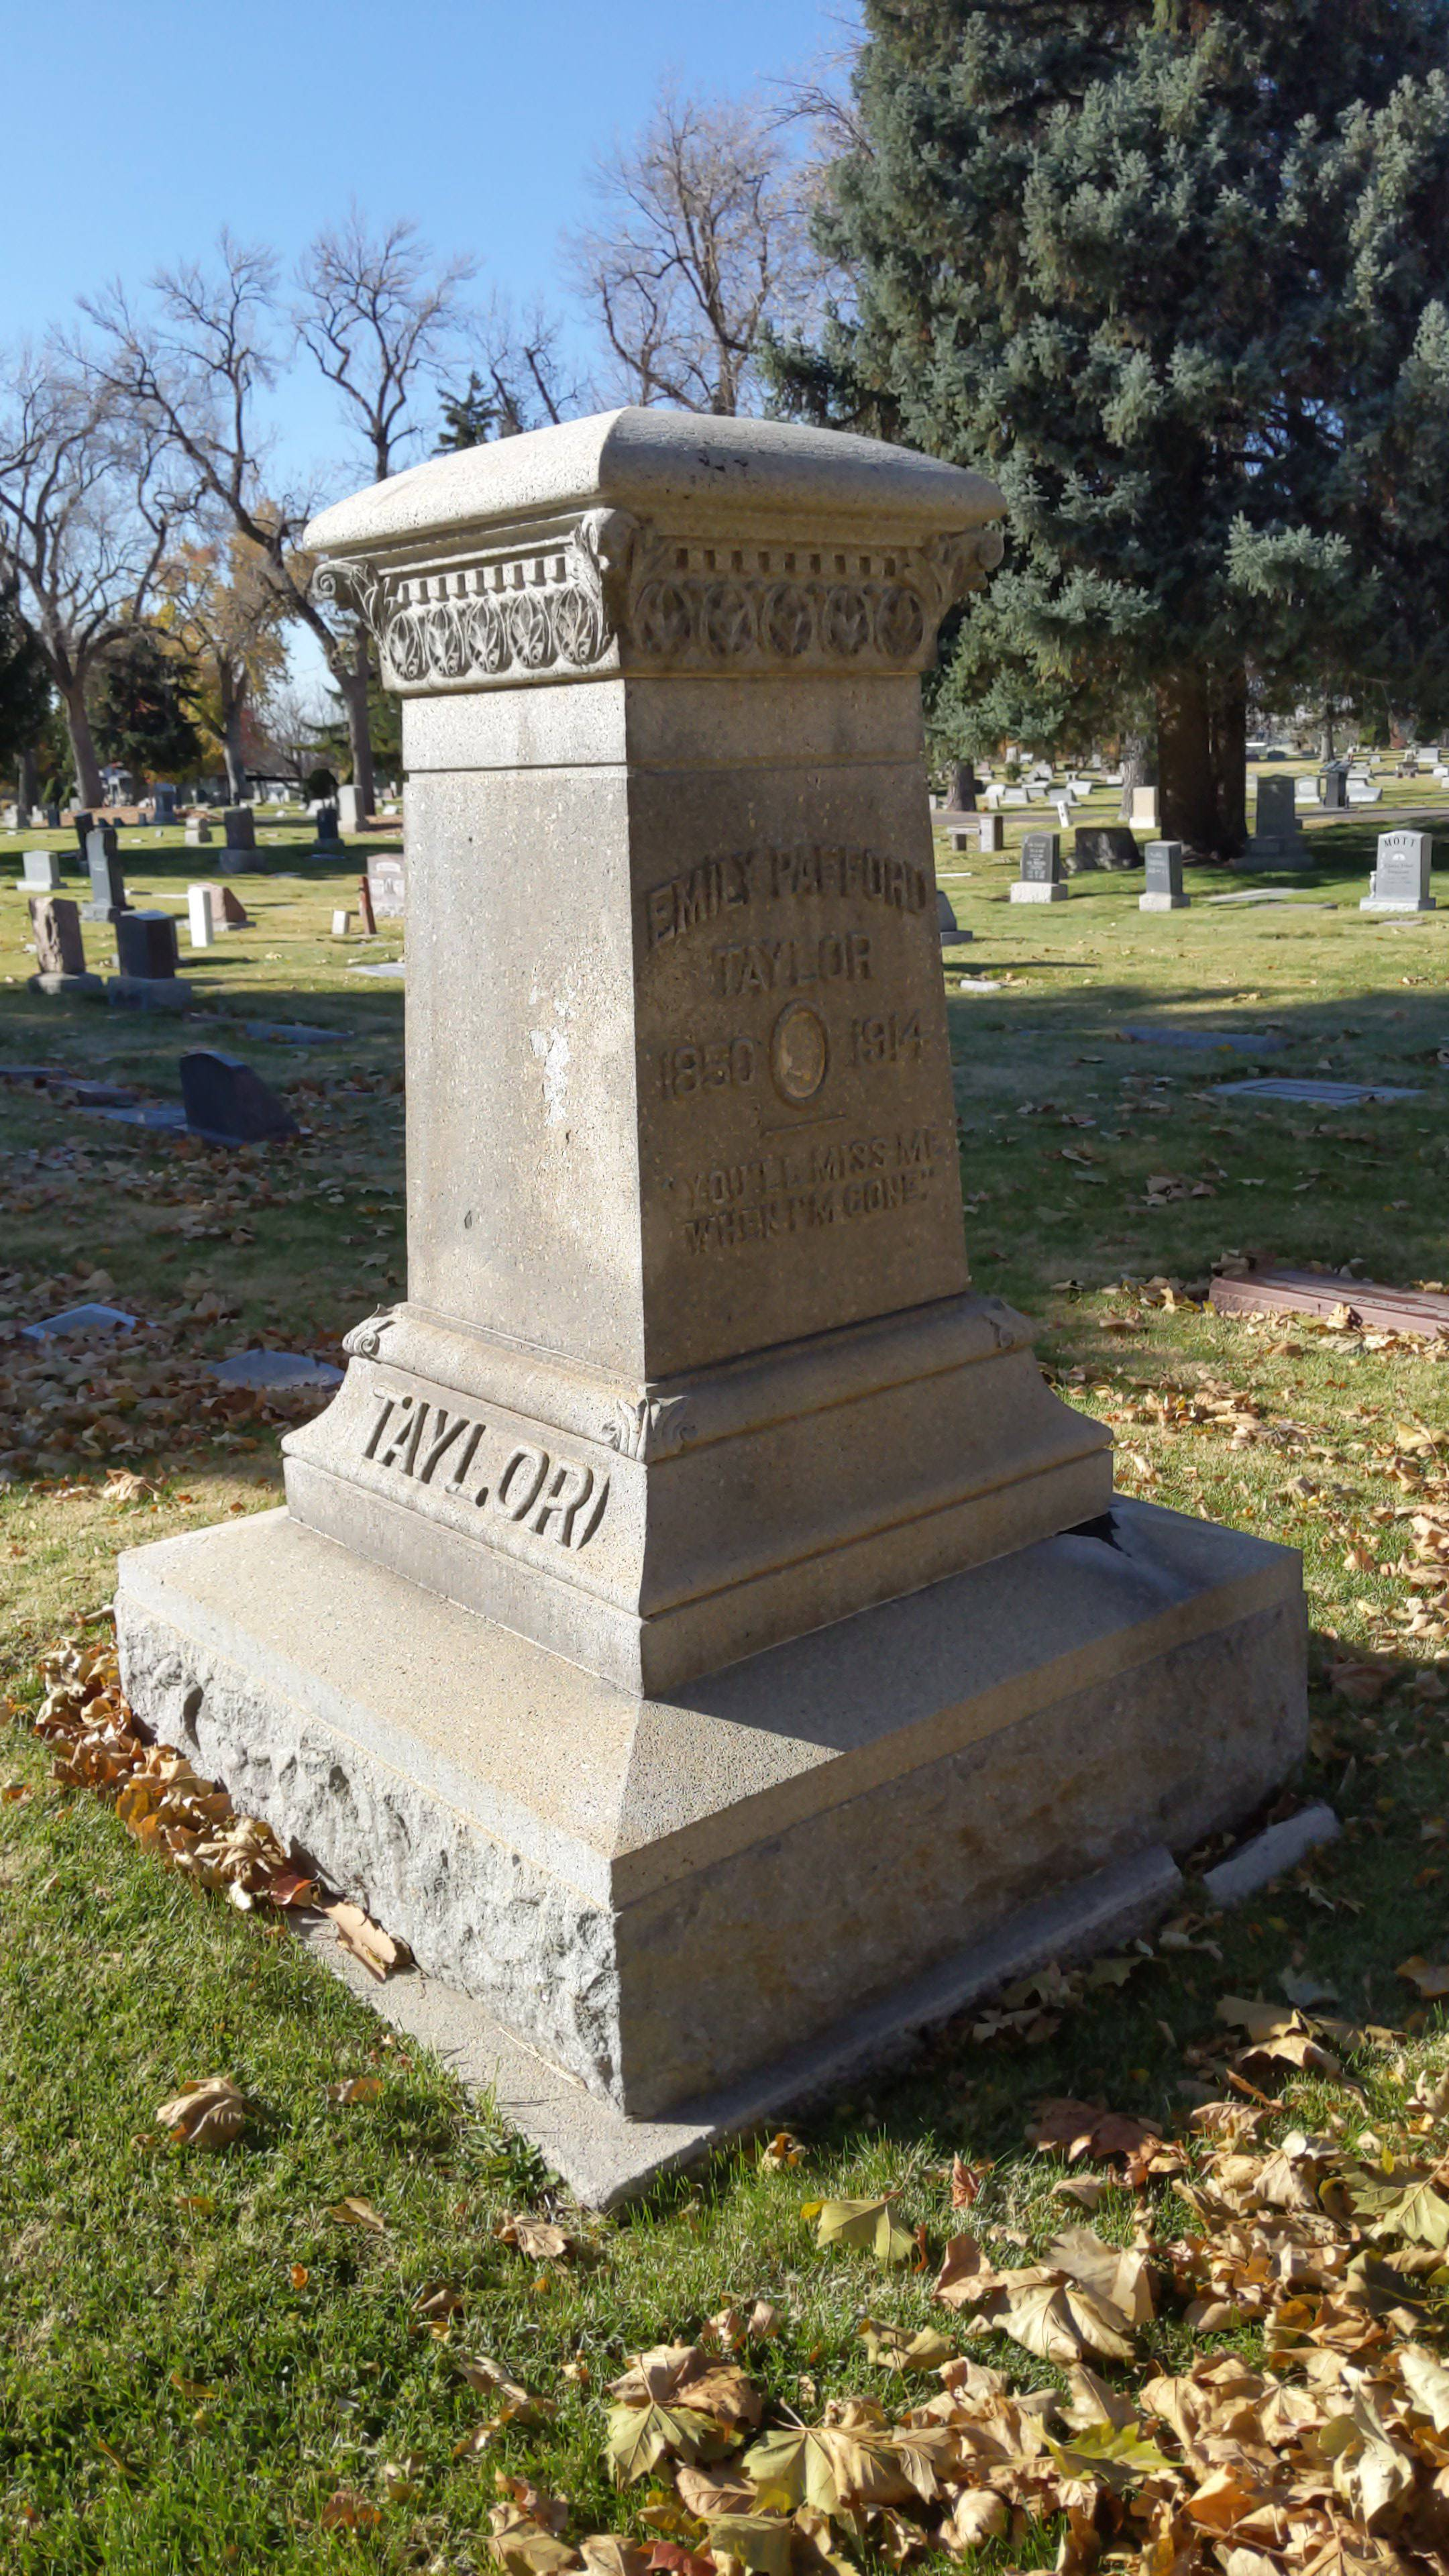obelisk: (280, 410, 1118, 1683)
